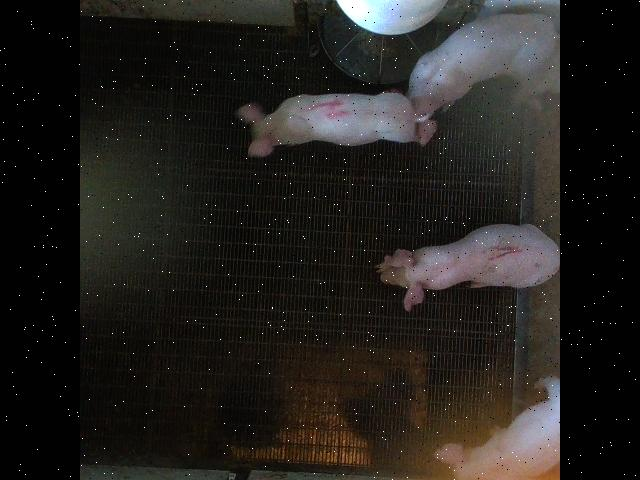pig-1: (376, 222, 558, 310)
pig-4: (236, 91, 416, 156)
